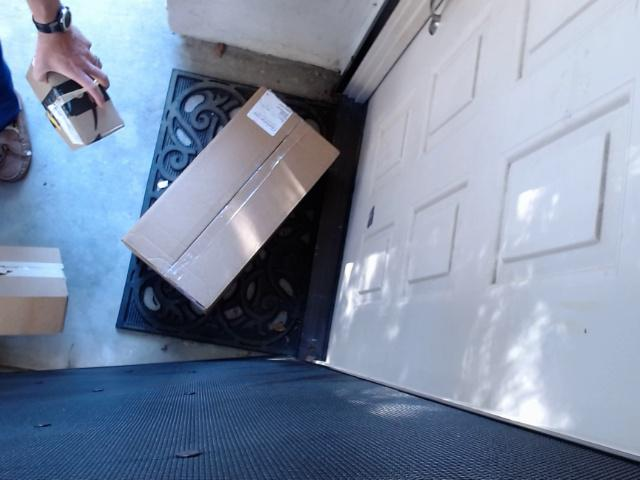box: (135, 91, 348, 335), (17, 46, 145, 172), (0, 224, 92, 358)
